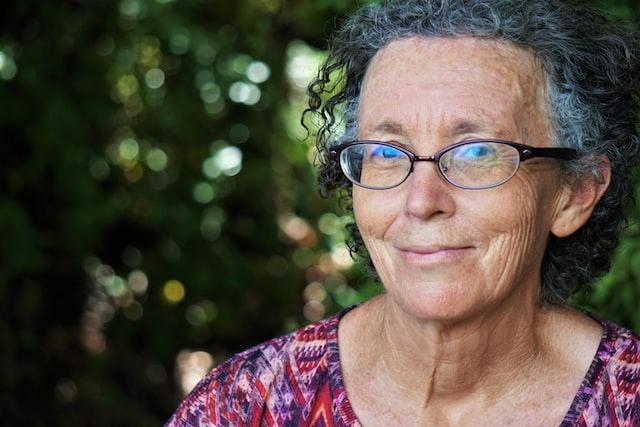crows_feet: (494, 143, 516, 174)
gummy_smile: (375, 210, 395, 240)
masseter: (501, 218, 527, 274)
